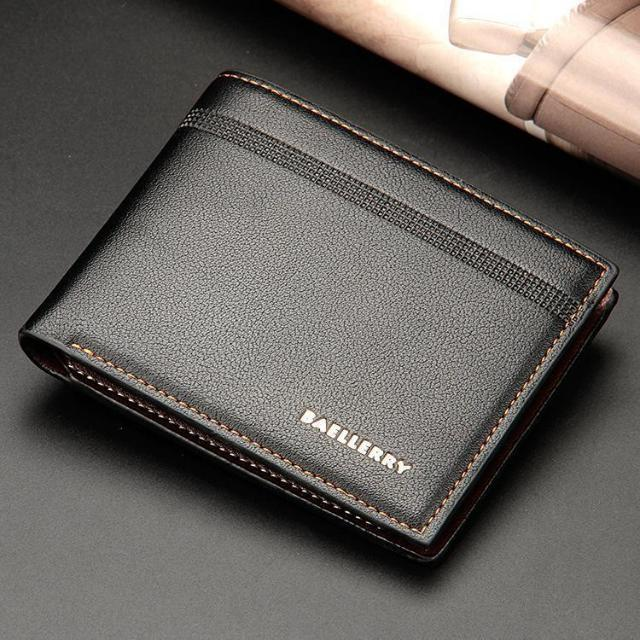wallet: (18, 67, 624, 575)
